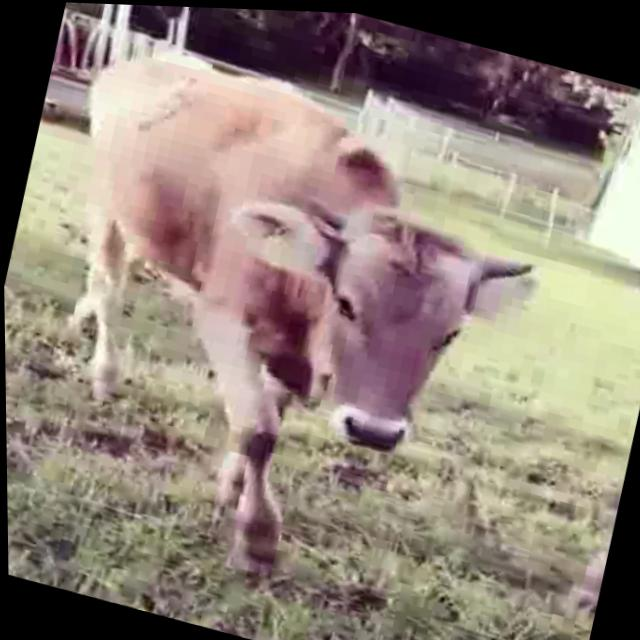cowFace: (187, 166, 555, 493)
